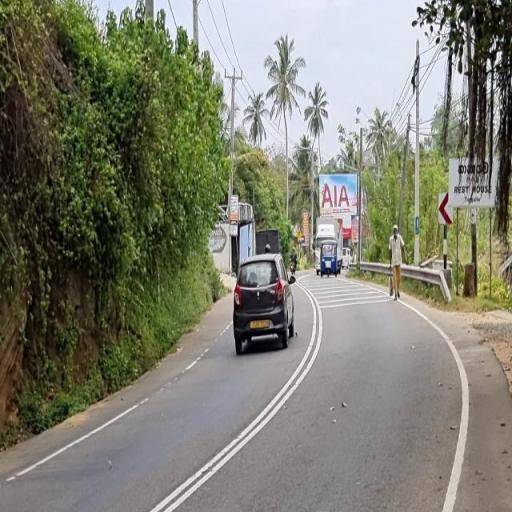double_white_line: (144, 291, 323, 510)
